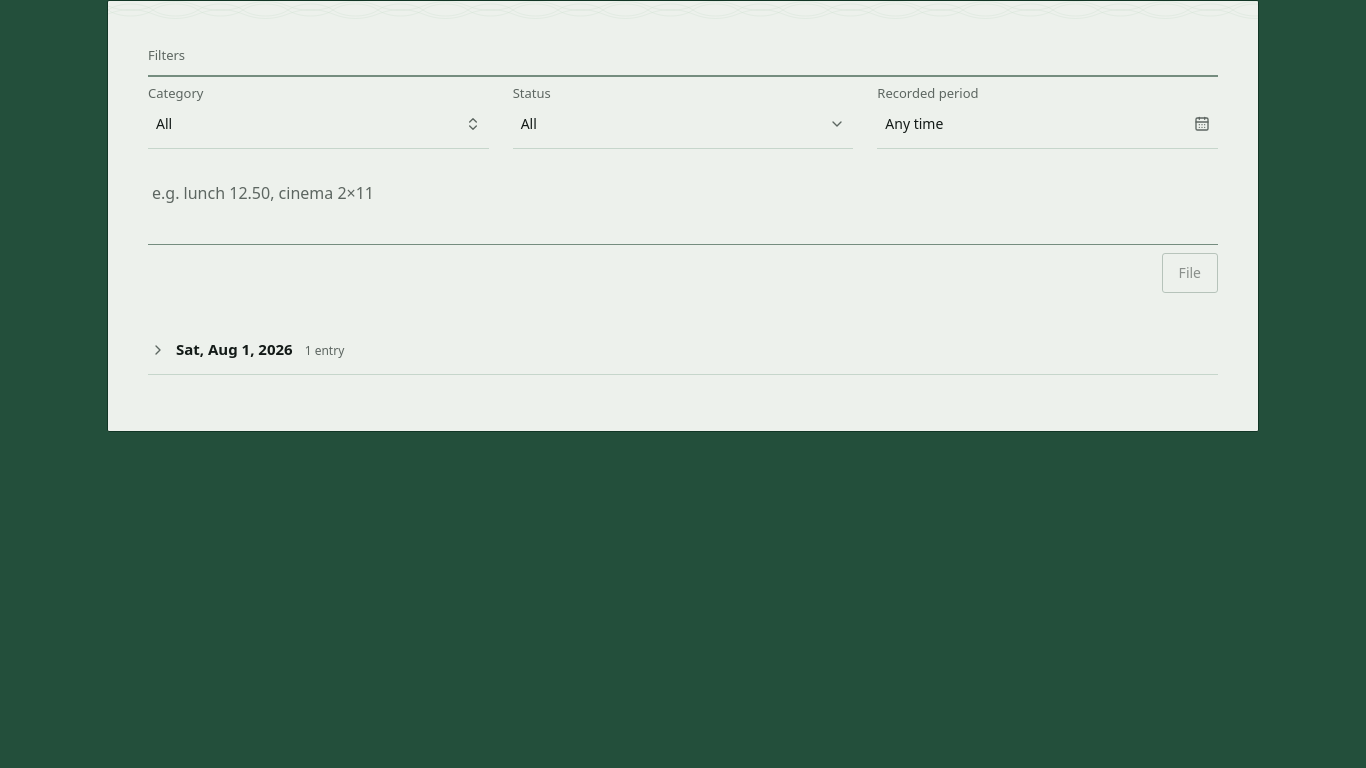
Test case: the expenses page › shows the listing’s refusal while the list that was already there still stands
Click the button "Sat, Aug 1, 2026 1 entry".
click(234, 349)  # box top-left (148, 325), bottom-right (1218, 374)
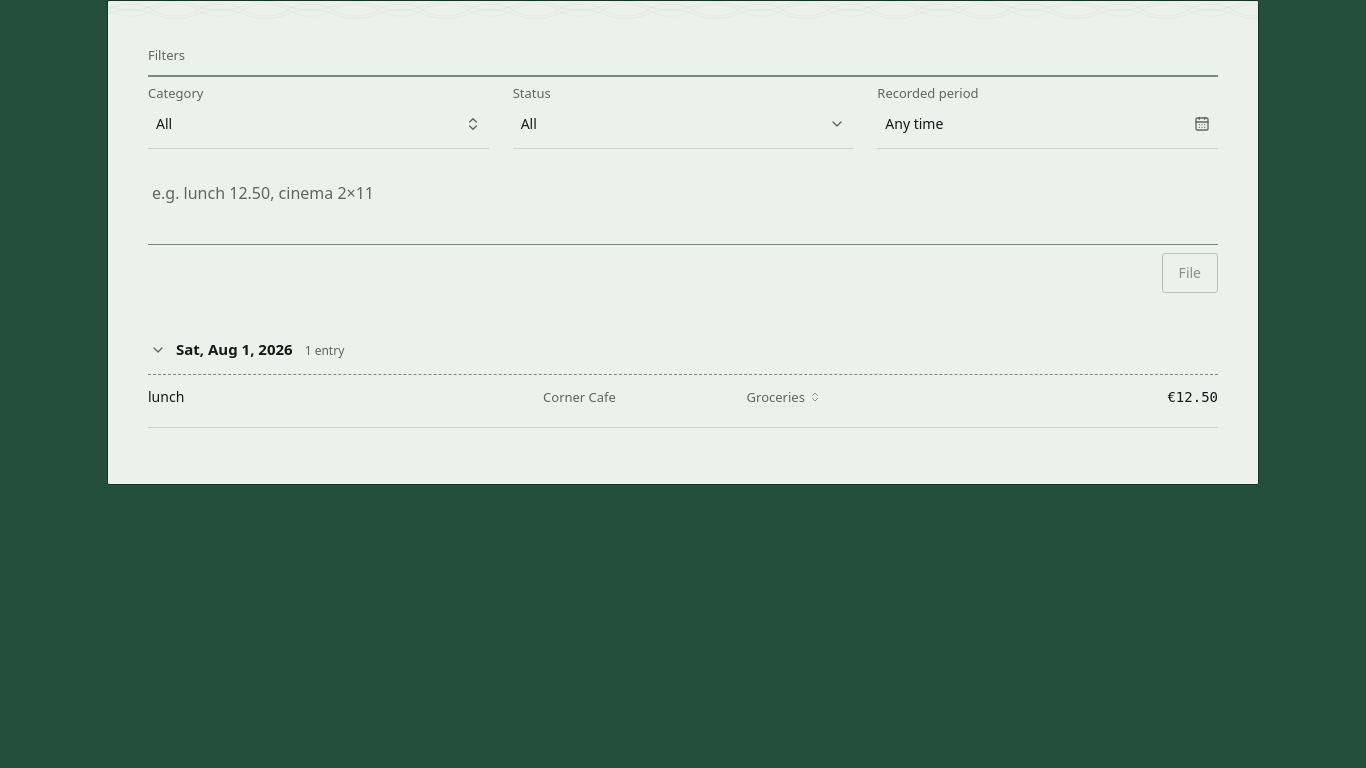
Click the button named "category".
click(164, 124)  # box top-left (148, 104), bottom-right (489, 144)
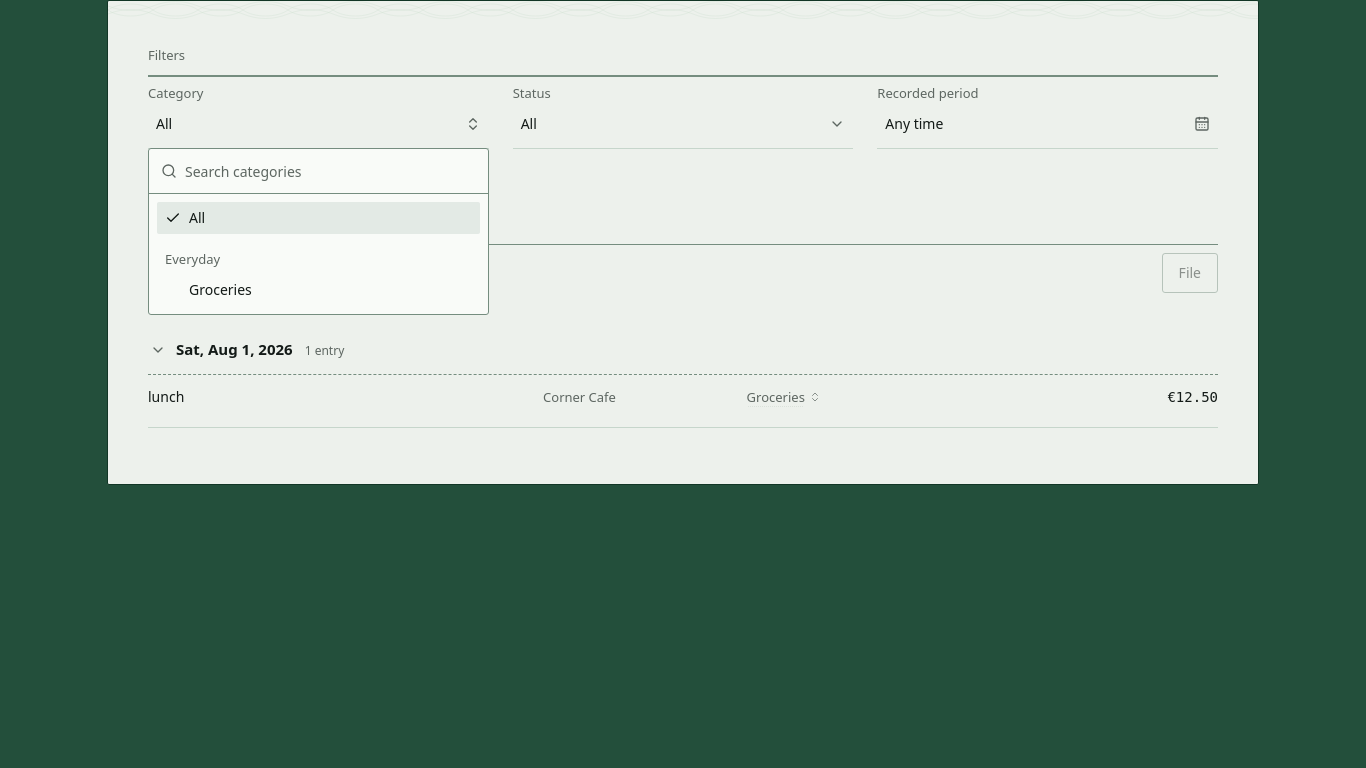
Click the option "Groceries".
click(220, 289)  # box top-left (189, 280), bottom-right (252, 298)
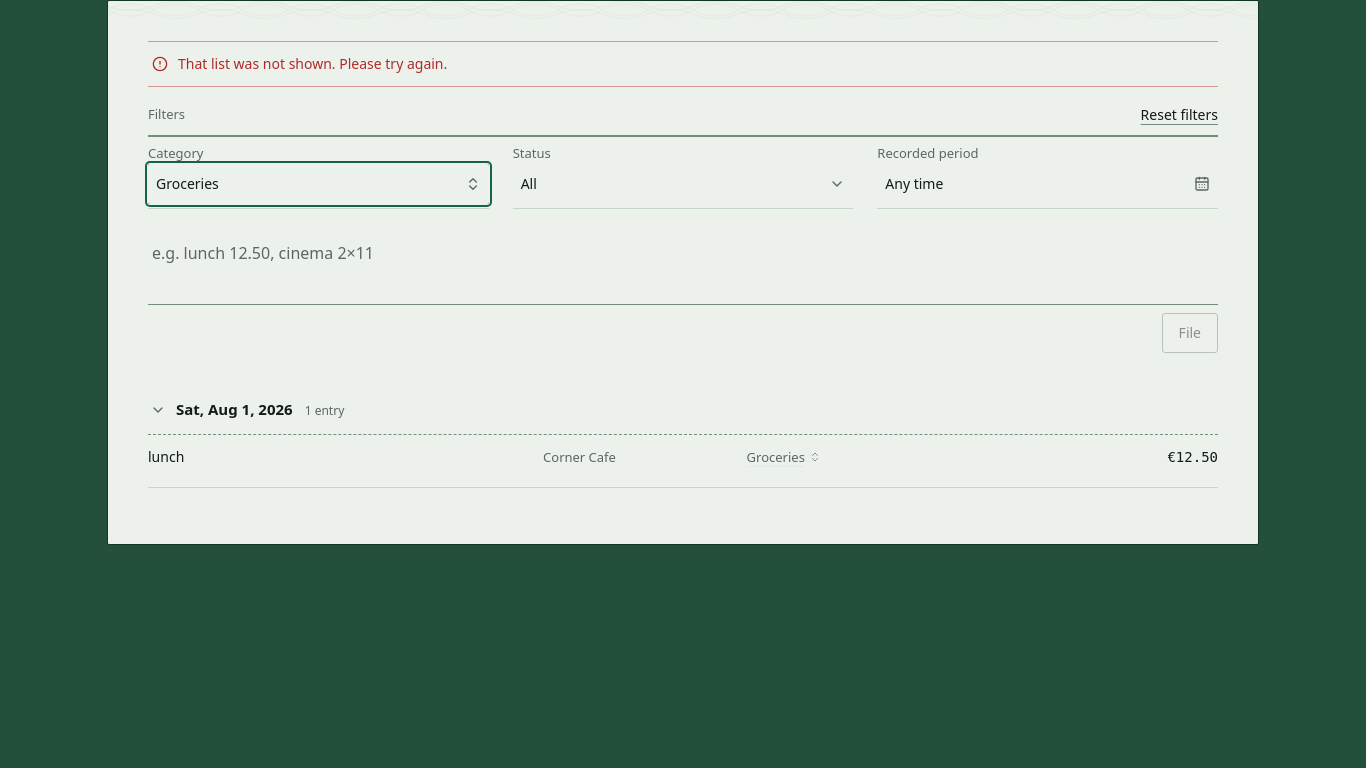
Now the text "lunch" is shown, box top-left (148, 447), bottom-right (184, 466)
Now the message reads "That list was not shown. Please try again.", box top-left (178, 54), bottom-right (447, 73)
